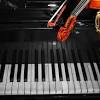Piano: (1, 44, 100, 100)
Violin: (40, 1, 100, 42)
